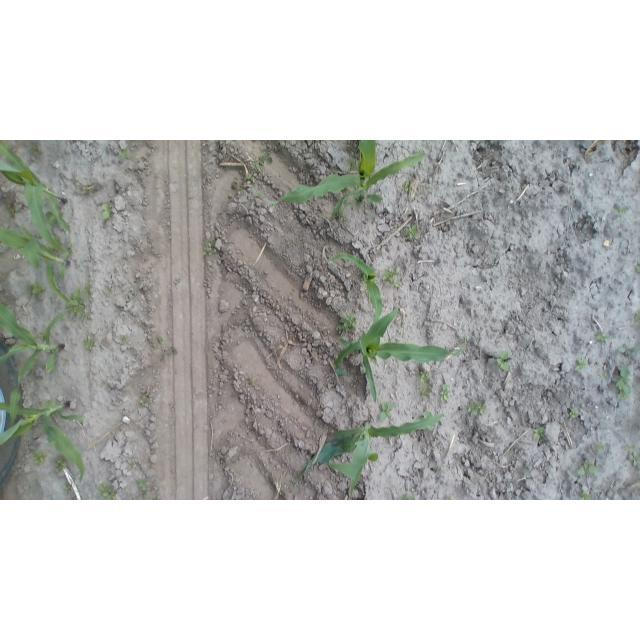Maize: (332, 307, 468, 402), (255, 140, 426, 213), (299, 414, 442, 500), (0, 300, 72, 429), (1, 140, 72, 248), (0, 402, 86, 486), (1, 225, 72, 304), (326, 253, 384, 326)
Weeds: (66, 282, 92, 319), (616, 365, 633, 400), (44, 209, 67, 230), (466, 400, 489, 416), (383, 268, 400, 288), (578, 460, 599, 476), (494, 351, 510, 371), (98, 483, 116, 500), (380, 403, 395, 422), (347, 152, 361, 172), (340, 315, 357, 331), (259, 150, 274, 167), (418, 369, 431, 388), (32, 451, 48, 466), (405, 224, 420, 240), (441, 383, 452, 403), (424, 410, 434, 431), (619, 346, 640, 356), (102, 203, 115, 219), (55, 456, 67, 472), (534, 427, 547, 441), (63, 241, 73, 259), (596, 332, 612, 342), (32, 281, 45, 293), (575, 358, 588, 370), (29, 144, 41, 157), (38, 330, 52, 341), (118, 150, 132, 161), (137, 478, 148, 492), (578, 492, 594, 501), (613, 206, 628, 215), (417, 387, 430, 397), (83, 340, 94, 351), (47, 245, 59, 255), (596, 441, 606, 453), (632, 450, 639, 467), (154, 336, 163, 349), (204, 243, 213, 255), (343, 199, 358, 206), (163, 349, 177, 356), (140, 395, 149, 405), (246, 174, 254, 185), (52, 235, 61, 244), (570, 409, 579, 418), (625, 443, 635, 451), (251, 164, 261, 172), (120, 334, 129, 342), (403, 180, 409, 192), (407, 493, 416, 500), (63, 485, 71, 492), (354, 192, 361, 200), (341, 214, 348, 222), (635, 312, 640, 323), (63, 357, 69, 364), (82, 187, 88, 194), (338, 205, 344, 212), (209, 237, 215, 244), (105, 288, 111, 294), (600, 371, 606, 377), (637, 262, 640, 273), (443, 497, 453, 500), (337, 324, 342, 330), (343, 168, 347, 174), (67, 497, 74, 500), (238, 188, 243, 191), (133, 498, 139, 500), (214, 248, 217, 252), (400, 498, 405, 500), (129, 466, 132, 469)
